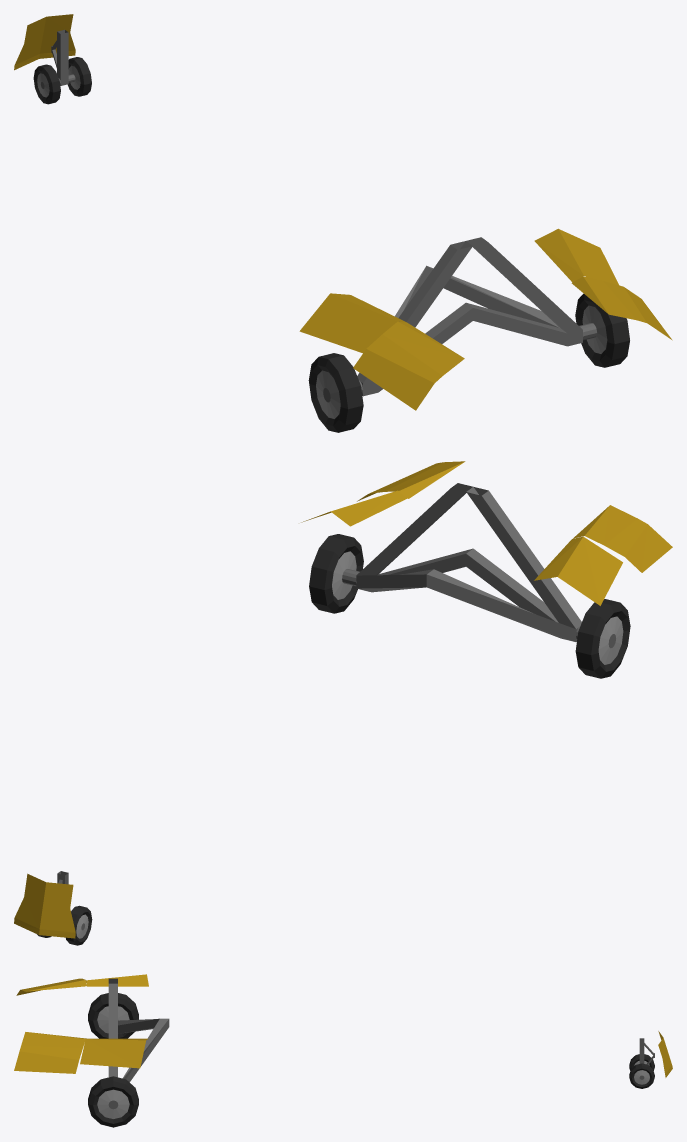
File: Gear_MU2.obj
3 views of the same model, one above another, from view 1: azimuth 30°, elevation 25°; view 2: azimuth 150°, elevation 25°; view 3: azimuth 270°, elevation 25° (orthographic). The views are drawn at different scales.
Parts seen in each view (by area): view 1: Shape_IndexedFaceSet.034, Shape_IndexedFaceSet.027, Shape_IndexedFaceSet.029, Shape_IndexedFaceSet.026, Shape_IndexedFaceSet.028, Shape_IndexedFaceSet.031, Shape_IndexedFaceSet.032, Shape_IndexedFaceSet.033, Shape_IndexedFaceSet.025, Shape_IndexedFaceSet.022, Shape_IndexedFaceSet.030, Shape_IndexedFaceSet.023 (+1 smaller); view 2: Shape_IndexedFaceSet.029, Shape_IndexedFaceSet.034, Shape_IndexedFaceSet.027, Shape_IndexedFaceSet.026, Shape_IndexedFaceSet.025, Shape_IndexedFaceSet.028, Shape_IndexedFaceSet.033, Shape_IndexedFaceSet.032, Shape_IndexedFaceSet.031, Shape_IndexedFaceSet.030, Shape_IndexedFaceSet.035; view 3: Shape_IndexedFaceSet.032, Shape_IndexedFaceSet.031, Shape_IndexedFaceSet.034, Shape_IndexedFaceSet.033, Shape_IndexedFaceSet.028, Shape_IndexedFaceSet.035, Shape_IndexedFaceSet.026, Shape_IndexedFaceSet.022, Shape_IndexedFaceSet.029, Shape_IndexedFaceSet.027, Shape_IndexedFaceSet.030, Shape_IndexedFaceSet.025.
Boxes of the visible parts, left/top/right/bottom form: Shape_IndexedFaceSet.034: left=427, top=237, right=596, bottom=346; Shape_IndexedFaceSet.027: left=353, top=321, right=464, bottom=410; Shape_IndexedFaceSet.029: left=323, top=241, right=472, bottom=402; Shape_IndexedFaceSet.026: left=299, top=293, right=406, bottom=353; Shape_IndexedFaceSet.028: left=308, top=353, right=363, bottom=432; Shape_IndexedFaceSet.031: left=534, top=228, right=619, bottom=285; Shape_IndexedFaceSet.032: left=571, top=276, right=672, bottom=340; Shape_IndexedFaceSet.033: left=575, top=293, right=629, bottom=367; Shape_IndexedFaceSet.025: left=14, top=14, right=75, bottom=70; Shape_IndexedFaceSet.022: left=33, top=57, right=91, bottom=104; Shape_IndexedFaceSet.030: left=316, top=370, right=340, bottom=418; Shape_IndexedFaceSet.023: left=40, top=29, right=75, bottom=88; Shape_IndexedFaceSet.029: left=426, top=487, right=615, bottom=648; Shape_IndexedFaceSet.034: left=342, top=483, right=472, bottom=592; Shape_IndexedFaceSet.027: left=573, top=505, right=672, bottom=572; Shape_IndexedFaceSet.026: left=534, top=536, right=622, bottom=605; Shape_IndexedFaceSet.025: left=14, top=873, right=75, bottom=938; Shape_IndexedFaceSet.028: left=575, top=599, right=630, bottom=678; Shape_IndexedFaceSet.033: left=309, top=534, right=363, bottom=613; Shape_IndexedFaceSet.032: left=357, top=461, right=465, bottom=501; Shape_IndexedFaceSet.031: left=301, top=490, right=407, bottom=526; Shape_IndexedFaceSet.030: left=598, top=616, right=623, bottom=664; Shape_IndexedFaceSet.035: left=332, top=551, right=356, bottom=599; Shape_IndexedFaceSet.032: left=14, top=1032, right=86, bottom=1073; Shape_IndexedFaceSet.031: left=80, top=1038, right=148, bottom=1068; Shape_IndexedFaceSet.034: left=108, top=983, right=169, bottom=1109; Shape_IndexedFaceSet.033: left=88, top=1076, right=138, bottom=1127; Shape_IndexedFaceSet.028: left=88, top=993, right=138, bottom=1038; Shape_IndexedFaceSet.035: left=97, top=1089, right=129, bottom=1118; Shape_IndexedFaceSet.026: left=85, top=974, right=148, bottom=986; Shape_IndexedFaceSet.022: left=629, top=1054, right=654, bottom=1088; Shape_IndexedFaceSet.029: left=108, top=978, right=159, bottom=1033; Shape_IndexedFaceSet.027: left=16, top=978, right=86, bottom=995; Shape_IndexedFaceSet.030: left=97, top=1006, right=129, bottom=1033; Shape_IndexedFaceSet.025: left=658, top=1031, right=672, bottom=1077.
Bounding box in the file's own units: 19.47 × 9.4 × 56.6.
